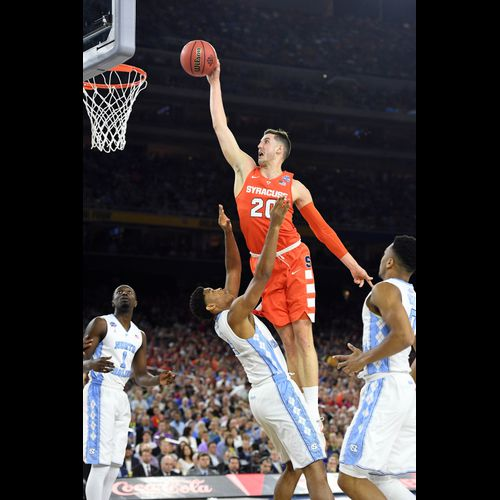ball: (179, 39, 216, 75)
